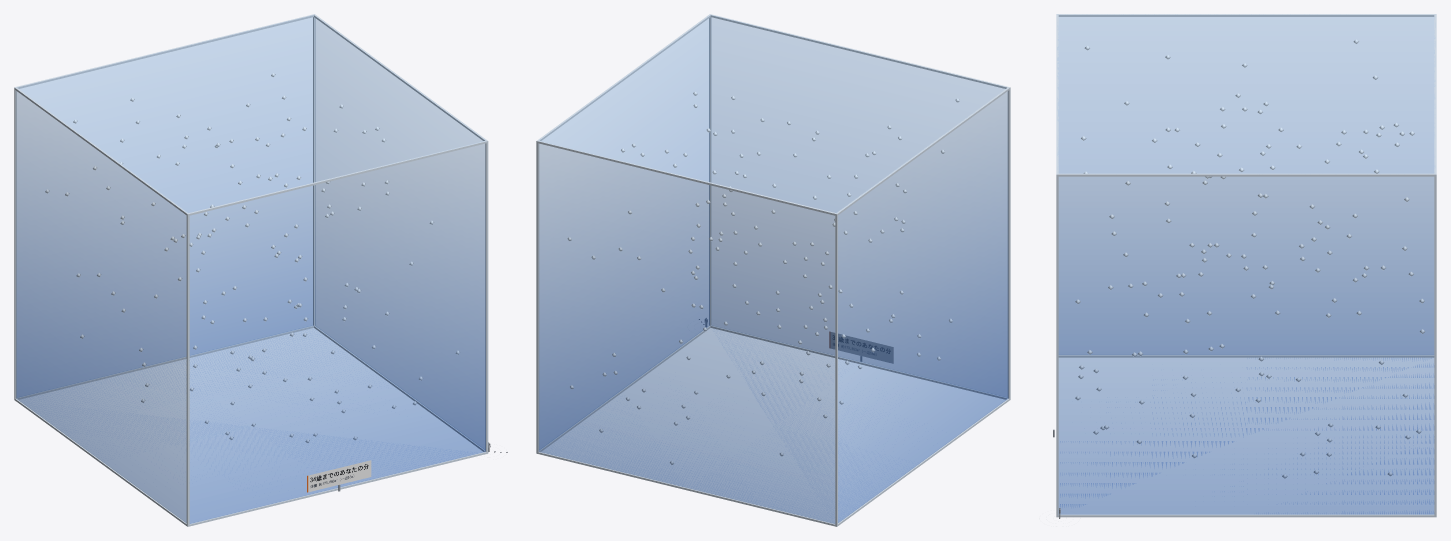
File: cube_life_34.glb
The picture shows the model from 3 angles, left to right: view 1: azimuth 30°, elevation 25°; view 2: azimuth 150°, elevation 25°; view 3: azimuth 270°, elevation 25°; orthographic projection. The views are drawn at different scales.
Visible parts, largest first — view 1: co2, edge, dots, label; view 2: co2, edge, dots, label; view 3: co2, edge, dots.
Boxes of the visible parts, x1,y1,x2,y2 form: co2: [16, 15, 485, 523]; edge: [14, 14, 488, 526]; dots: [45, 73, 459, 443]; label: [307, 460, 371, 492]; co2: [539, 15, 1008, 523]; edge: [536, 14, 1010, 526]; dots: [567, 91, 959, 464]; label: [829, 332, 893, 363]; co2: [1057, 15, 1434, 514]; edge: [1056, 14, 1436, 517]; dots: [1075, 39, 1425, 478].
Bounding box in the file's own units: 59.54 × 55.81 × 58.64.
8 materials, 3 textured.
